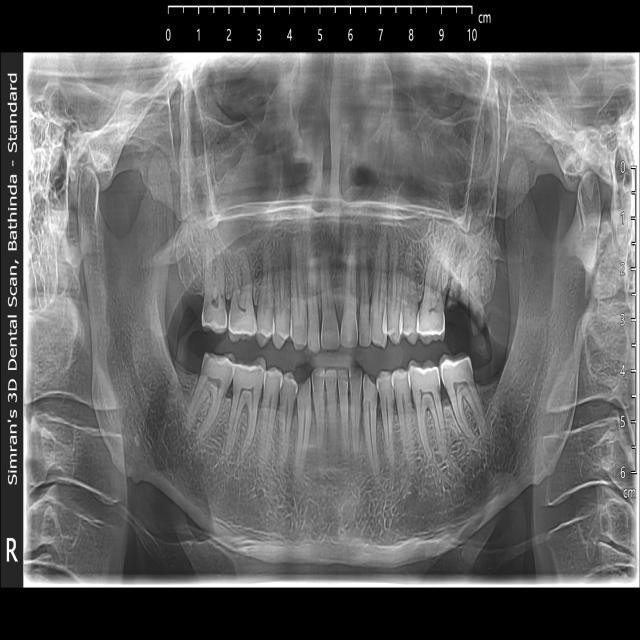Mandibular Canal: (404, 336, 557, 517), (119, 336, 257, 509)
Root Piece: (467, 273, 487, 333), (448, 253, 462, 301), (459, 252, 469, 299)
maxillary sinus: (187, 55, 308, 250), (386, 60, 500, 238)
